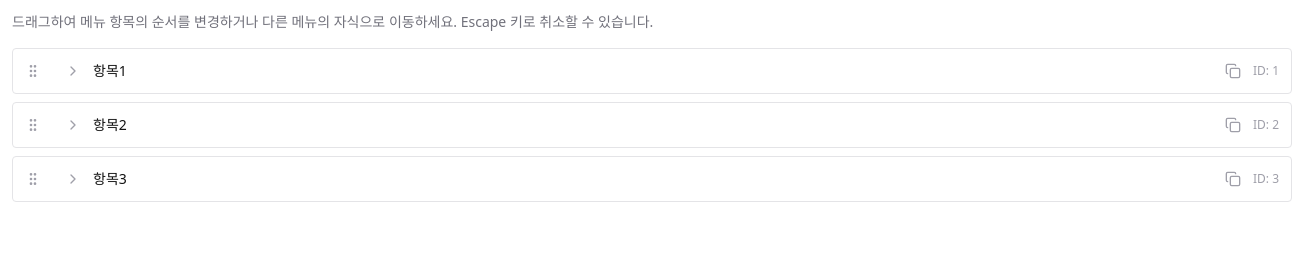
Scenario: MenuItemDnDTree — M4 항목 복제 버튼 › 복제 클릭 → duplicate({id}) 전송, 새 루트 행을 원본 뒤에 삽입 + refresh + 토스트
Click the button named "복제" in the row of "항목2" at (1233, 125), box [1225, 117, 1241, 133]
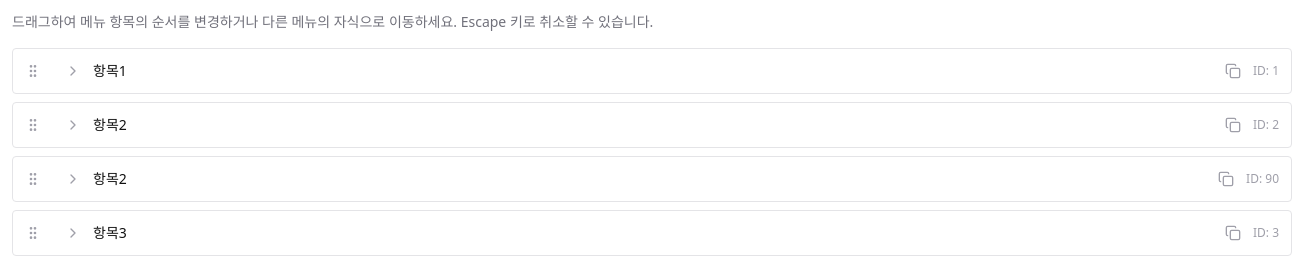
Result: the list item "항목2 ID: 90" is shown at [12, 156, 1291, 202]
